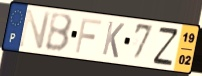7: (132, 22, 155, 64)
B: (44, 12, 74, 54)
F: (74, 16, 103, 55)
K: (101, 20, 126, 61)
N: (17, 8, 53, 50)
Z: (152, 26, 180, 67)
